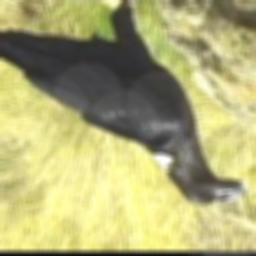Crow: (0, 0, 249, 209)
